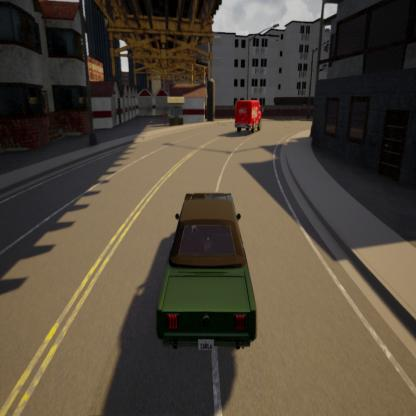Cars: (140, 169, 279, 392), (225, 77, 268, 144)
